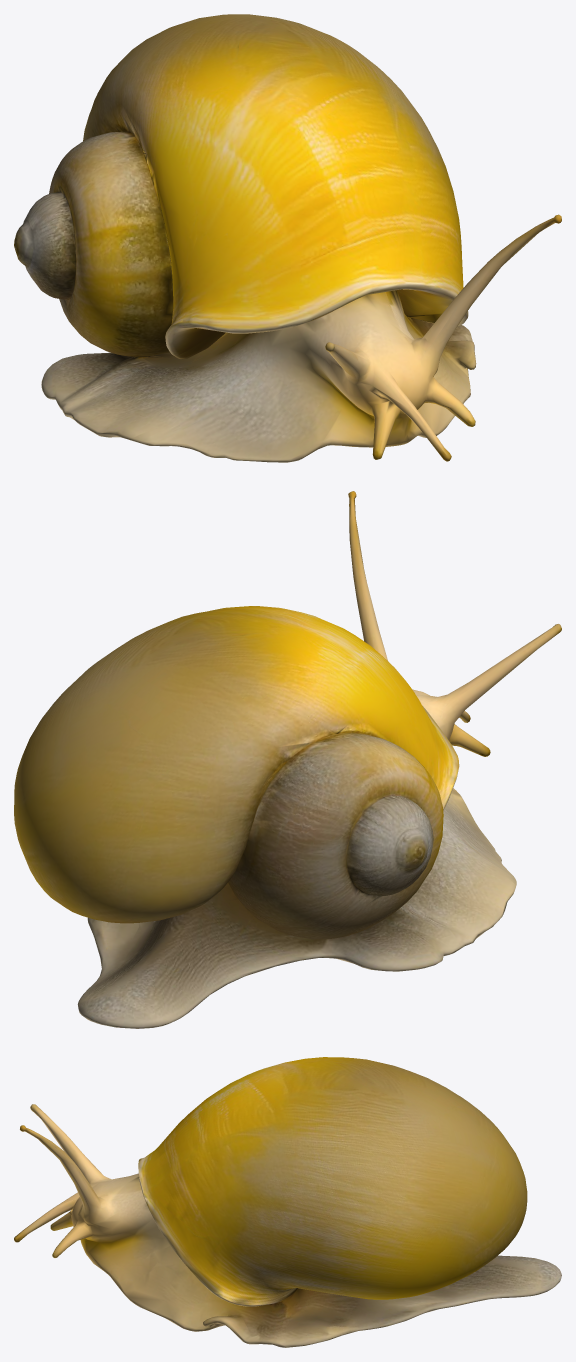
The model's file is snail-mystery.glb.
The picture shows the model from 3 angles, top to bottom: view 1: azimuth 30°, elevation 25°; view 2: azimuth 150°, elevation 25°; view 3: azimuth 270°, elevation 25°; orthographic projection. The views are drawn at different scales.
Visible parts, largest first — view 1: Shell, Body, TentR, TentL; view 2: Shell, Body, TentR, TentL; view 3: Shell, Body, TentL, TentR.
Part boxes in pixels (bbox=[...]): Shell: bbox=[14, 14, 474, 453]; Body: bbox=[41, 270, 476, 462]; TentR: bbox=[275, 279, 451, 461]; TentL: bbox=[337, 214, 561, 435]; Shell: bbox=[14, 606, 512, 1001]; Body: bbox=[77, 689, 516, 1028]; TentR: bbox=[430, 624, 561, 822]; TentL: bbox=[348, 491, 387, 660]; Shell: bbox=[138, 1057, 541, 1334]; Body: bbox=[71, 1173, 561, 1347]; TentL: bbox=[15, 1125, 155, 1287]; TentR: bbox=[14, 1104, 151, 1242].
Bounding box in the file's own units: 0.1289 × 0.0942 × 0.21.
1 material, 1 textured.
